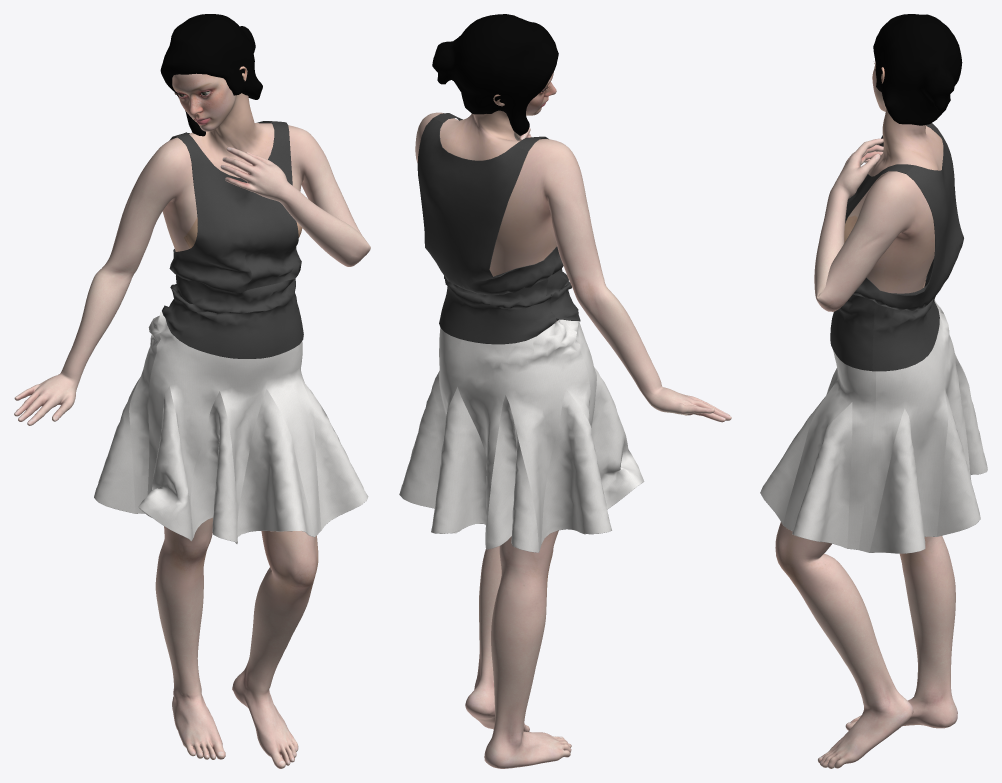
Rendered from Custom_View_1__Dramatic.obj.
The picture shows the model from 3 angles, left to right: view 1: azimuth 30°, elevation 25°; view 2: azimuth 150°, elevation 25°; view 3: azimuth 270°, elevation 25°; orthographic projection. The views are drawn at different scales.
Size of the model in its own units: 813 by 1767 by 498.
